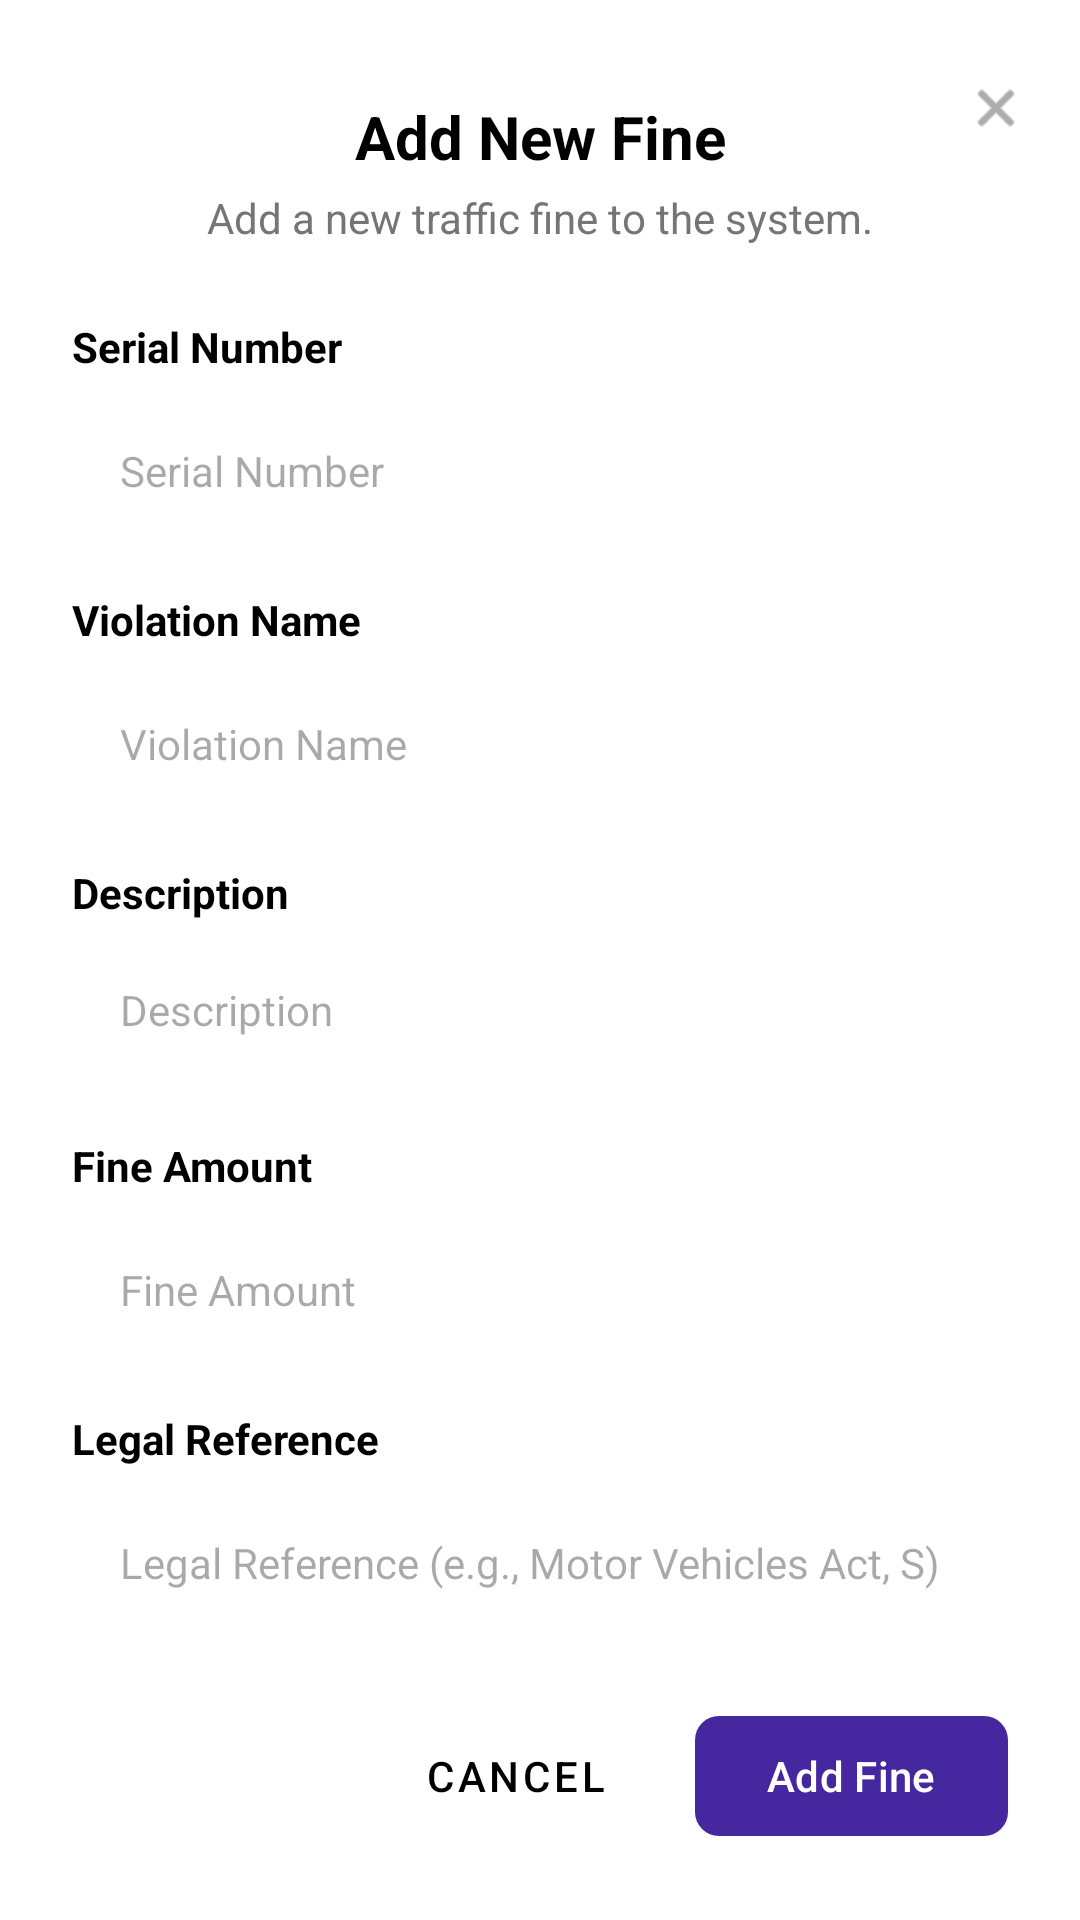

Named icons in this screenshot (1080px x 1920px) and their centers, (x,y):
close clear cancel: (996,108)
